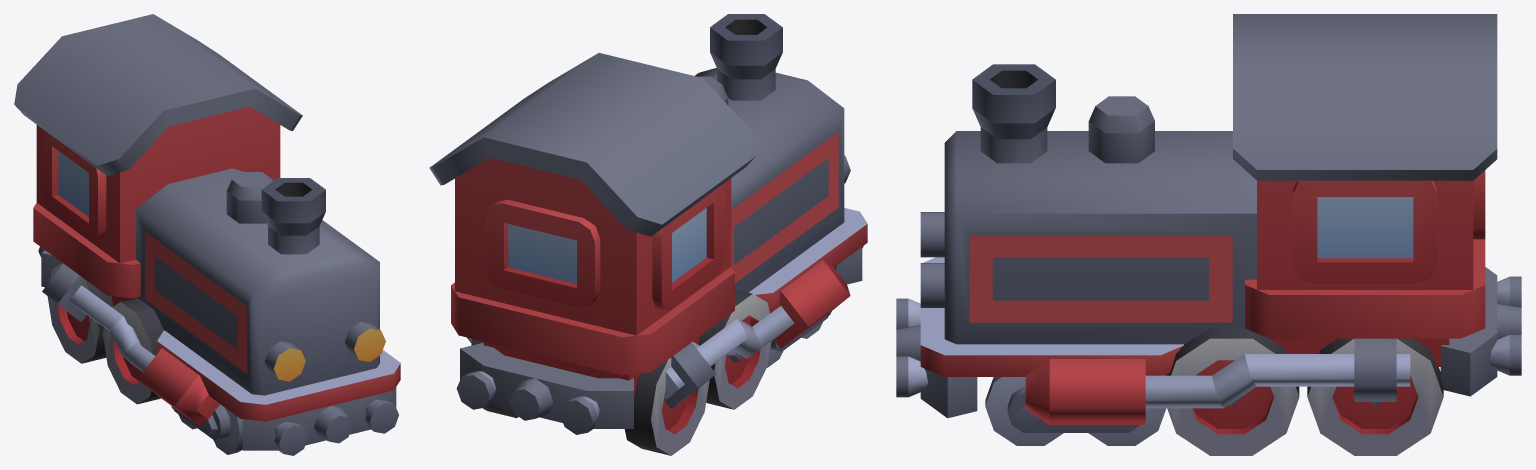
Rendered from train-locomotive-b.glb.
3 views of the same model, side by side, from view 1: azimuth 30°, elevation 25°; view 2: azimuth 150°, elevation 25°; view 3: azimuth 270°, elevation 25° (orthographic). The views are drawn at different scales.
Visible parts, largest first — view 1: train-locomotive-b, wheel (×2), wheels-front; view 2: train-locomotive-b, wheel (×2), wheels-front; view 3: train-locomotive-b, wheel (×2), wheels-front.
Boxes of the visible parts, box(x1,y1,x2,y2) form: train-locomotive-b: box(14, 14, 400, 455); wheel (×2): box(47, 263, 164, 404); wheels-front: box(171, 404, 242, 454); train-locomotive-b: box(429, 14, 867, 434); wheel (×2): box(624, 289, 771, 455); wheels-front: box(767, 311, 831, 367); train-locomotive-b: box(896, 14, 1521, 424); wheel (×2): box(1165, 327, 1443, 455); wheels-front: box(985, 377, 1166, 445).
Size of the model in its own units: 1.32 by 1.66 by 2.6.
